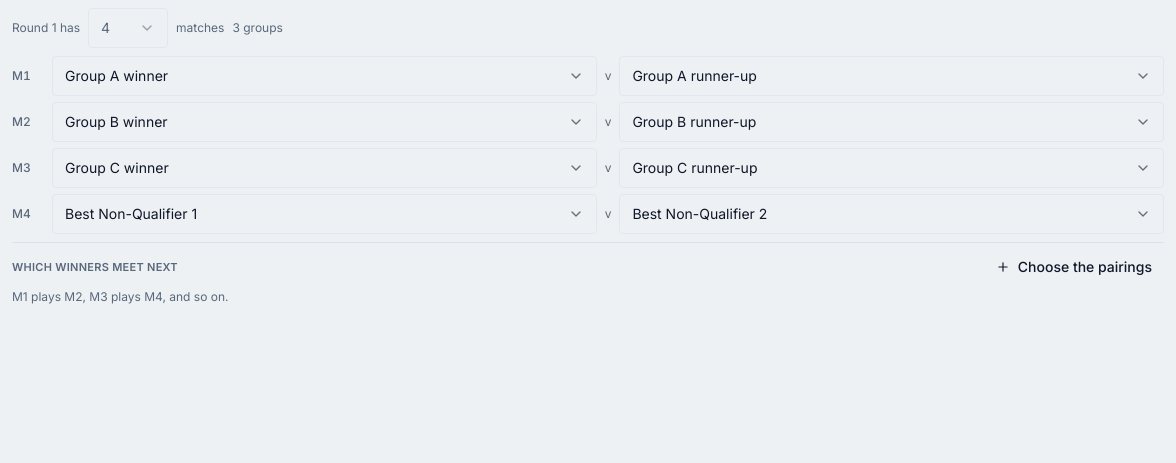
BracketSheetEditor › names the qualifier left with no match
The image size is (1176, 463).
Click the button "Group B winner": (116, 122) [52, 102, 597, 142]
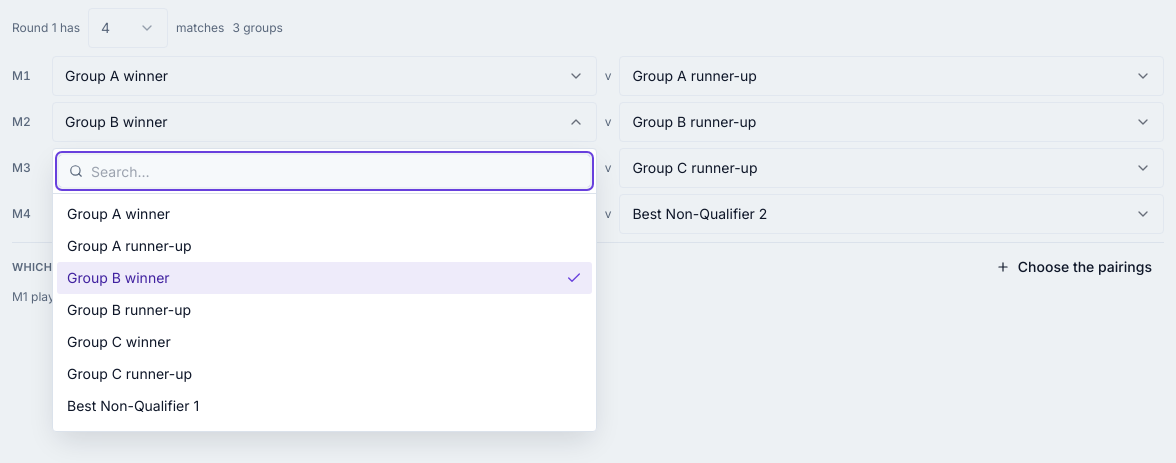
Click the option "Group A winner": (119, 214) [67, 205, 170, 222]
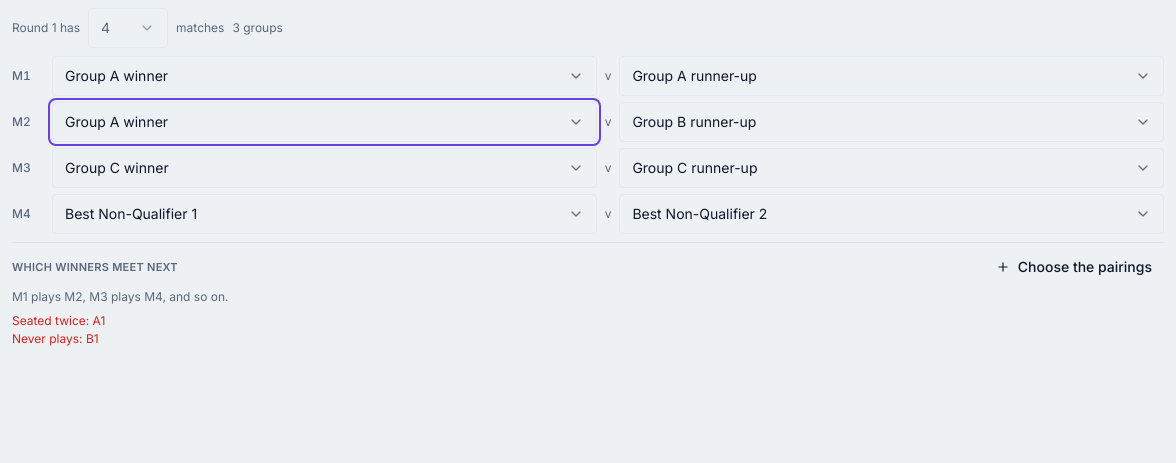
Now the list with test id "sheet-problems" shows "Seated twice: A1", box [12, 313, 105, 328]
Now the list with test id "sheet-problems" shows "Never plays: B1", box [12, 331, 99, 346]
